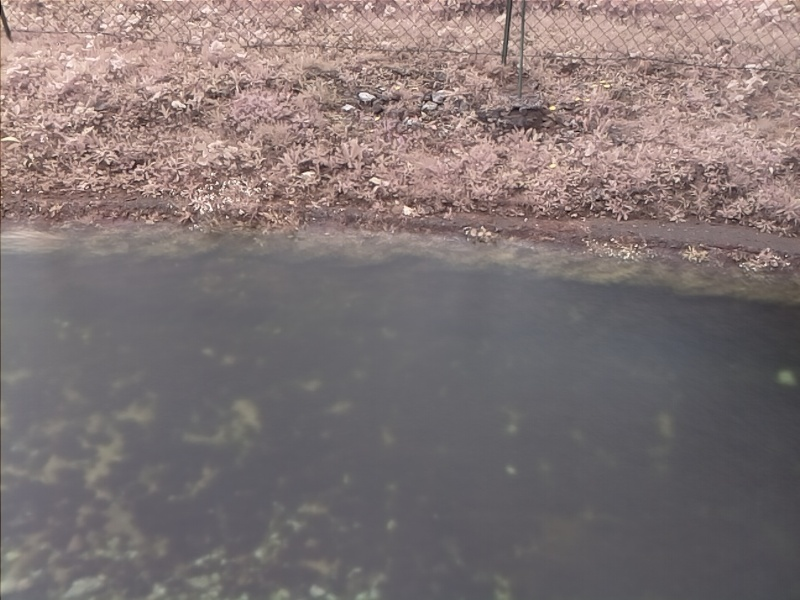Water: (1, 217, 800, 599)
